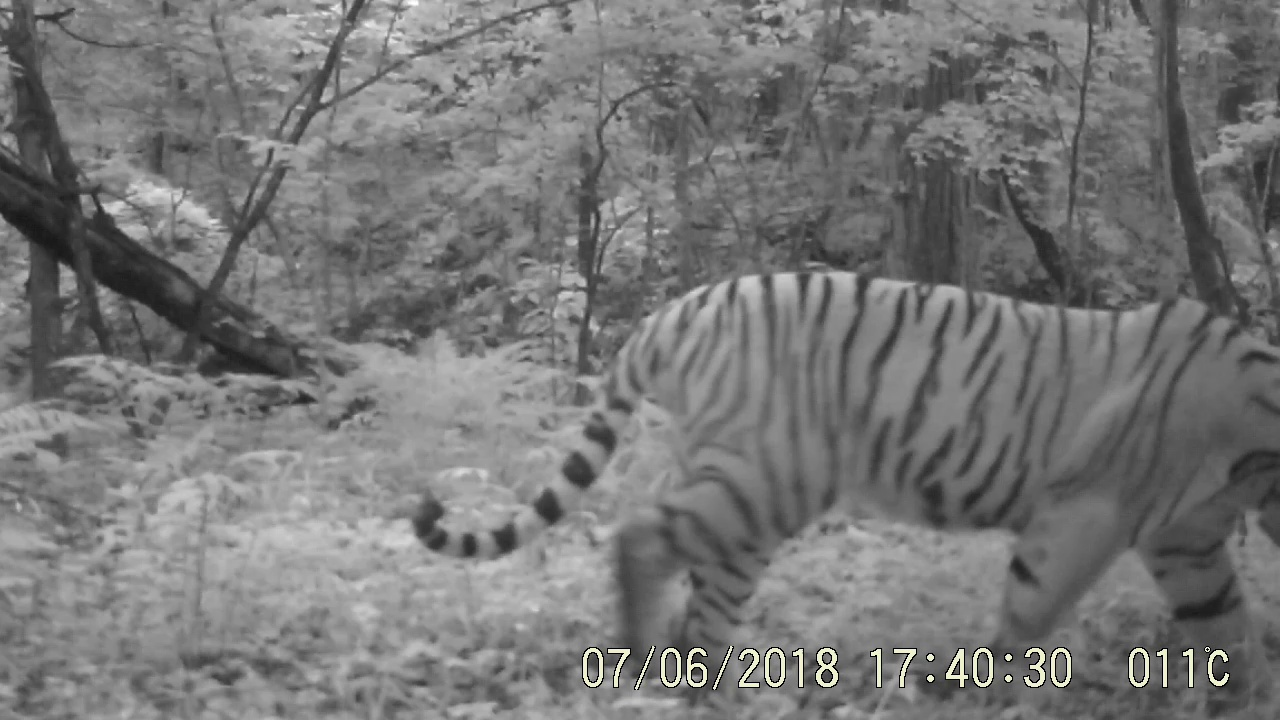Tiger: (379, 218, 1280, 720)
